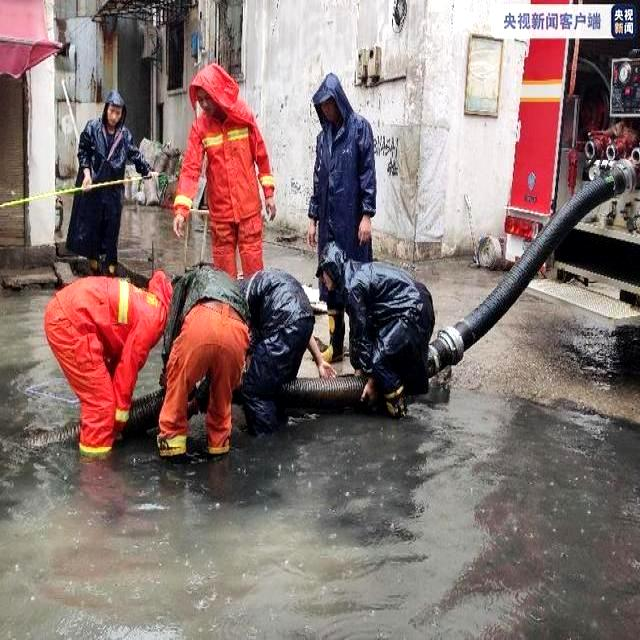civilian: (305, 69, 380, 371), (315, 239, 443, 412), (64, 93, 149, 274), (244, 263, 316, 449)
rescuer: (37, 256, 183, 466), (169, 61, 280, 283), (159, 259, 244, 478)
